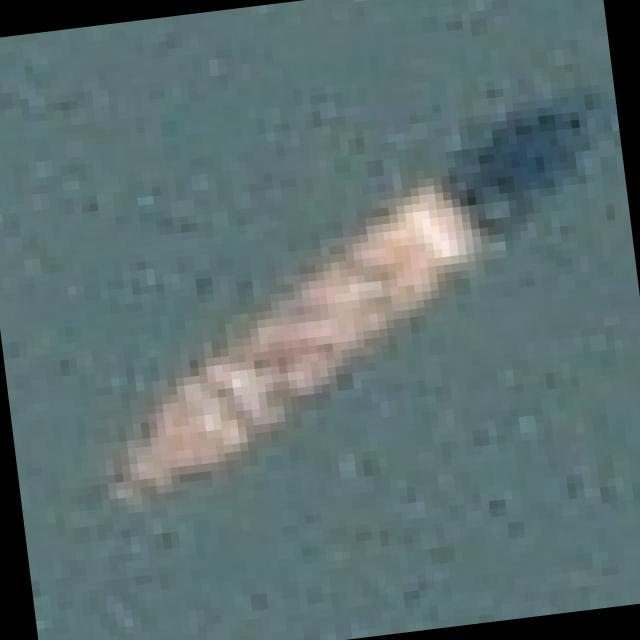ship: (39, 127, 589, 562)
